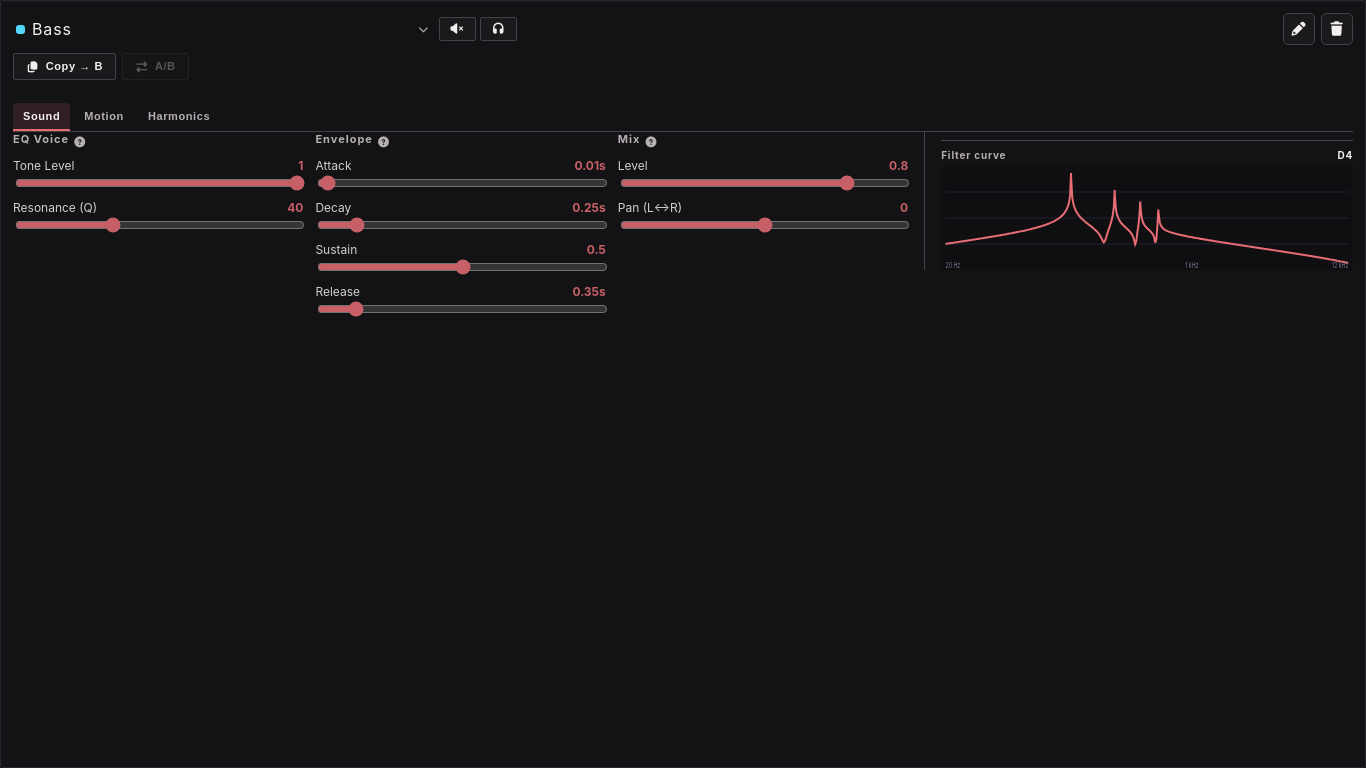
Test: InstrumentPanel guided editing › shows starter controls in Sound and updates their displayed value
Expected: the element named "Instrument settings" is shown, [13,103,1353,132]
Expected: the heading "EQ Voice" is shown, [13,132,69,146]
Set the slider labelled "Tone Level 1" to "0.4". click: (133, 183)
box: [15,175,305,191]
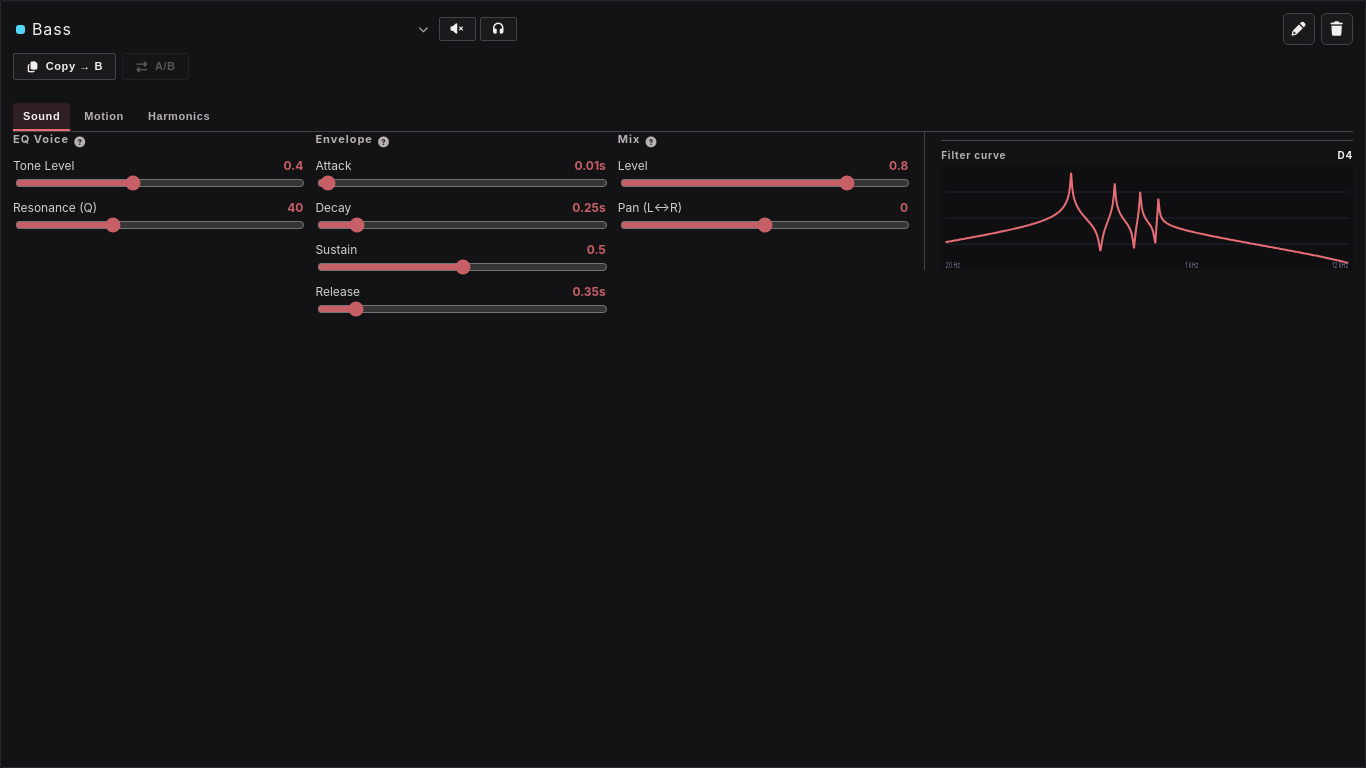
Now the text "0.4" is shown, box [284,158,303,173]
